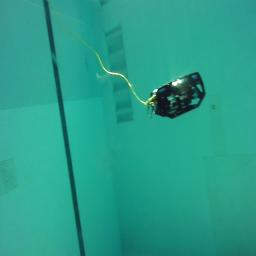Side: (149, 72, 206, 119)
